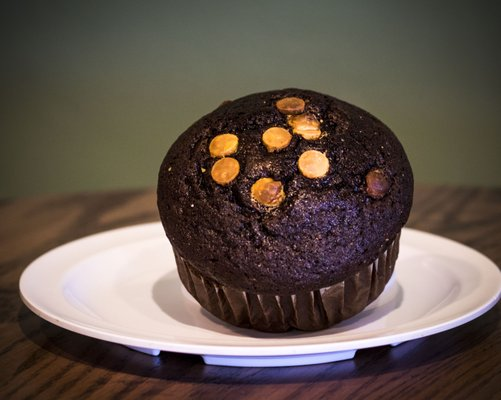sushi: (156, 88, 415, 333)
